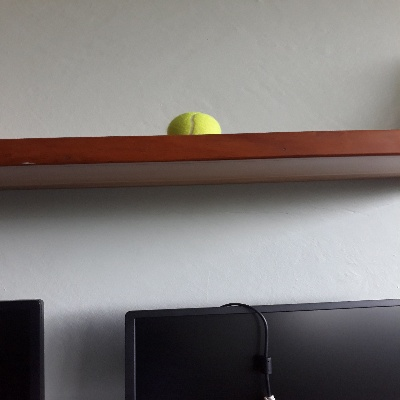Ball: (167, 111, 219, 134)
